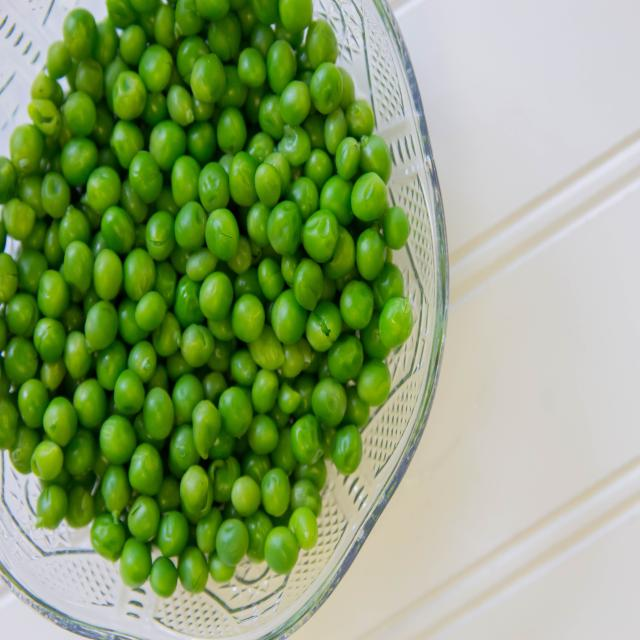Peas: (42, 39, 331, 513), (128, 284, 264, 514), (118, 150, 168, 228), (201, 211, 241, 265), (268, 196, 296, 262)
